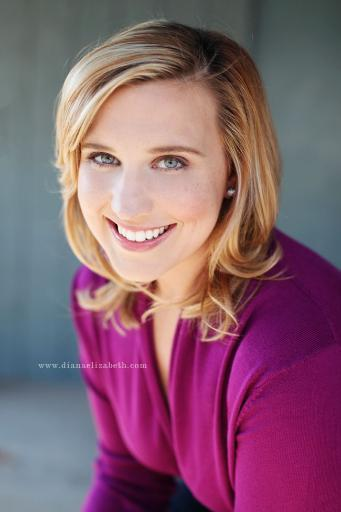left_eye: (152, 155, 193, 177)
left_lip_corner: (170, 219, 182, 233)
right_eye: (86, 152, 122, 170)
right_lip_corner: (103, 213, 116, 228)
